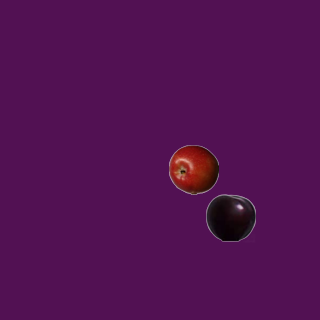Apple Braeburn: (168, 144, 218, 194)
Cherry Wax Black: (205, 192, 255, 242)
